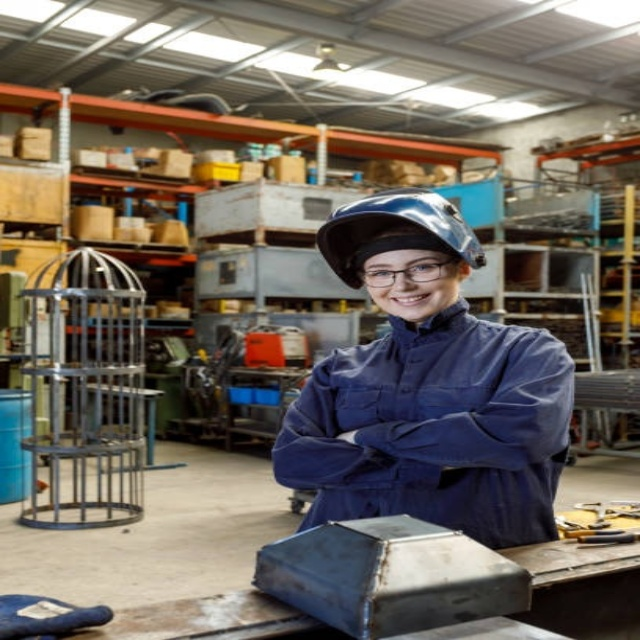Gafas: (359, 258, 457, 288)
Guantes: (0, 593, 112, 638)
Sin_mascara: (375, 291, 442, 316)
